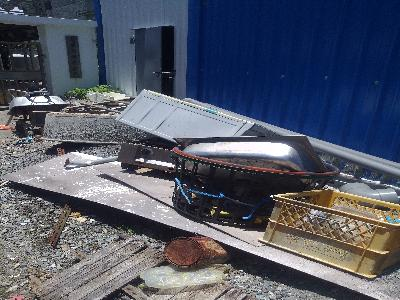bottle: (161, 233, 243, 270)
box: (115, 88, 271, 147), (6, 95, 69, 117)
